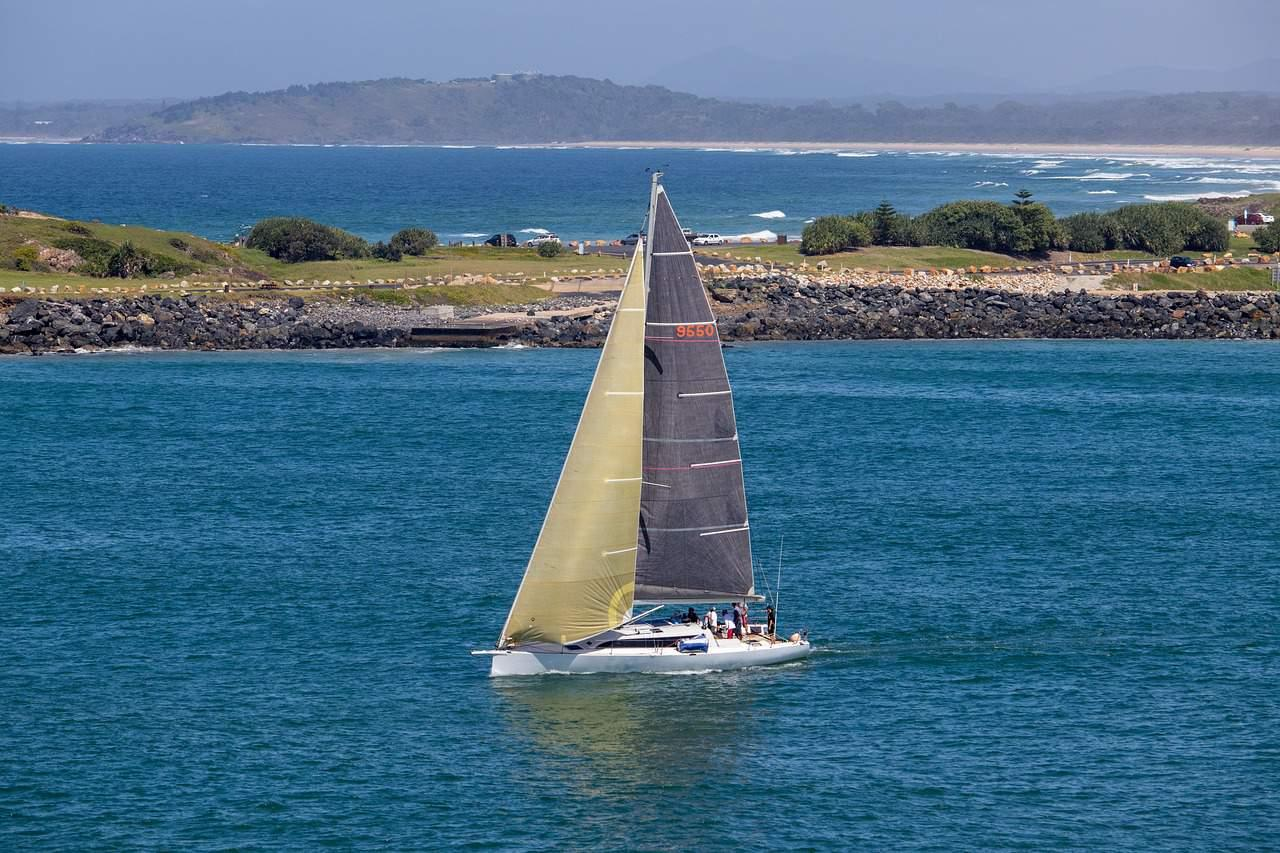Ship: (470, 174, 815, 678)
